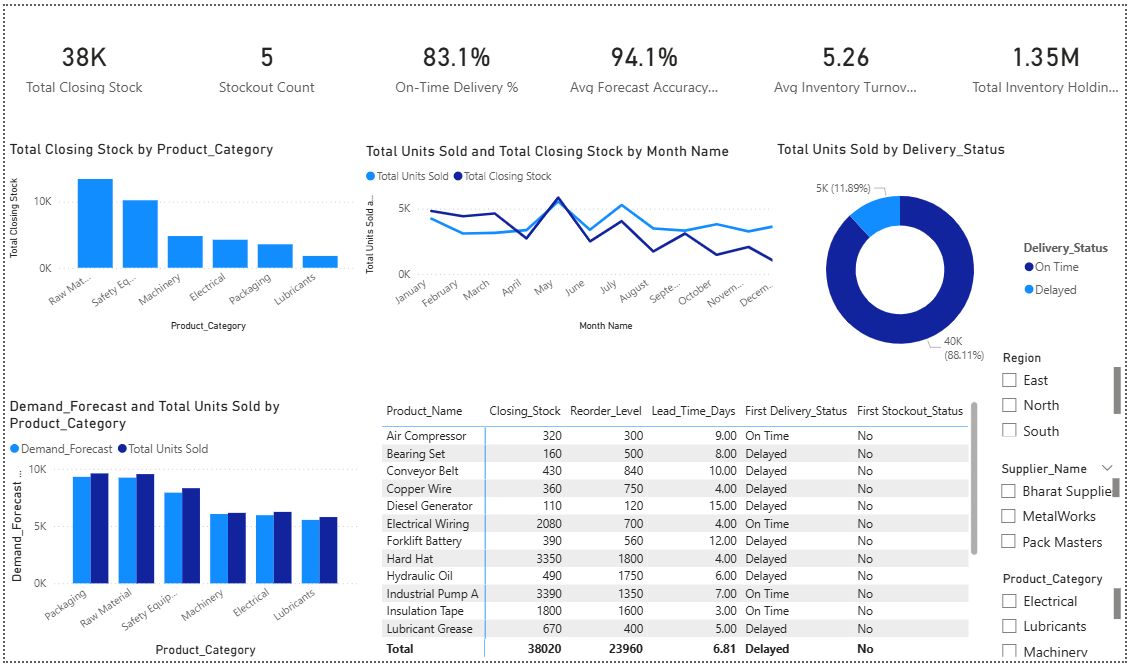

Layout of this report page (visuals, bound fields, positions):
{"tool":"powerbi","page":{"name":"Executive KPIs","canvas":[1280,720],"ordinal":0},"visuals":[{"type":"card","fields":{"Values":["fact_inventory.Total Closing Stock"]},"box":[0,0,181.1,77.4],"z":0},{"type":"card","fields":{"Values":["fact_inventory.Stockout Count"]},"box":[208.6,0,181.4,77.1],"z":1000},{"type":"card","fields":{"Values":["fact_inventory.On-Time Delivery %"]},"box":[425.7,0,181.4,77.1],"z":2000},{"type":"card","fields":{"Values":["fact_inventory.Avg Forecast Accuracy %"]},"box":[640,0,181.4,77.1],"z":3000},{"type":"card","fields":{"Values":["fact_inventory.Avg Inventory Turnover Ratio"]},"box":[870,0,181.4,77.1],"z":4000},{"type":"card","fields":{"Values":["fact_inventory.Total Inventory Holding Cost"]},"box":[1098.6,0,181.4,77.1],"z":5000},{"type":"clusteredColumnChart","fields":{"Category":["fact_inventory.Product_Category"],"Y":["fact_inventory.Total Closing Stock"]},"box":[0,124.3,407.1,224.3],"z":6000},{"type":"lineChart","fields":{"Category":["dim_date.Month Name"],"Y":["fact_inventory.Total Units Sold","fact_inventory.Total Closing Stock"]},"box":[407.1,127.1,498.6,221.4],"z":7000},{"type":"donutChart","fields":{"Category":["fact_inventory.Delivery_Status"],"Y":["fact_inventory.Total Units Sold"]},"box":[877.1,124.3,402.9,278.6],"z":8000},{"type":"clusteredColumnChart","fields":{"Category":["fact_inventory.Product_Category"],"Y":["Sum(fact_inventory.Demand_Forecast)","fact_inventory.Total Units Sold"]},"box":[0,418.6,407.1,301.4],"z":9000},{"type":"pivotTable","fields":{"Rows":["fact_inventory.Product_Name"],"Values":["Sum(fact_inventory.Closing_Stock)","Sum(fact_inventory.Reorder_Level)","Avg(fact_inventory.Lead_Time_Days)","Min(fact_inventory.Delivery_Status)","Min(fact_inventory.Stockout_Status)"]},"box":[425.7,418.6,691.4,301.4],"z":10000},{"type":"slicer","fields":{"Values":["fact_inventory.Region"]},"box":[1127.1,360,152.9,108.6],"z":11000},{"type":"slicer","fields":{"Values":["fact_inventory.Supplier_Name"]},"box":[1125.7,487.1,152.9,114.3],"z":12000},{"type":"slicer","fields":{"Values":["fact_inventory.Product_Category"]},"box":[1127.1,612.9,152.9,107.1],"z":13000}]}

Visuals, with their boxes on the page's 1280x720 design canvas (x1, y1, x2, y2). These are canvas units, not pixel positions in the 1129x664 screenshot, which may show the page scaled, cropped or inside an application window:
card - fact_inventory.Total Closing Stock: Rect(0, 0, 181, 77)
card - fact_inventory.Stockout Count: Rect(209, 0, 390, 77)
card - fact_inventory.On-Time Delivery %: Rect(426, 0, 607, 77)
card - fact_inventory.Avg Forecast Accuracy %: Rect(640, 0, 821, 77)
card - fact_inventory.Avg Inventory Turnover Ratio: Rect(870, 0, 1051, 77)
card - fact_inventory.Total Inventory Holding Cost: Rect(1099, 0, 1280, 77)
clusteredColumnChart - fact_inventory.Product_Category x fact_inventory.Total Closing Stock: Rect(0, 124, 407, 349)
lineChart - dim_date.Month Name x fact_inventory.Total Units Sold: Rect(407, 127, 906, 348)
donutChart - fact_inventory.Delivery_Status x fact_inventory.Total Units Sold: Rect(877, 124, 1280, 403)
clusteredColumnChart - fact_inventory.Product_Category x Sum(fact_inventory.Demand_Forecast): Rect(0, 419, 407, 720)
pivotTable - fact_inventory.Product_Name x Sum(fact_inventory.Closing_Stock): Rect(426, 419, 1117, 720)
slicer - fact_inventory.Region: Rect(1127, 360, 1280, 469)
slicer - fact_inventory.Supplier_Name: Rect(1126, 487, 1279, 601)
slicer - fact_inventory.Product_Category: Rect(1127, 613, 1280, 720)
